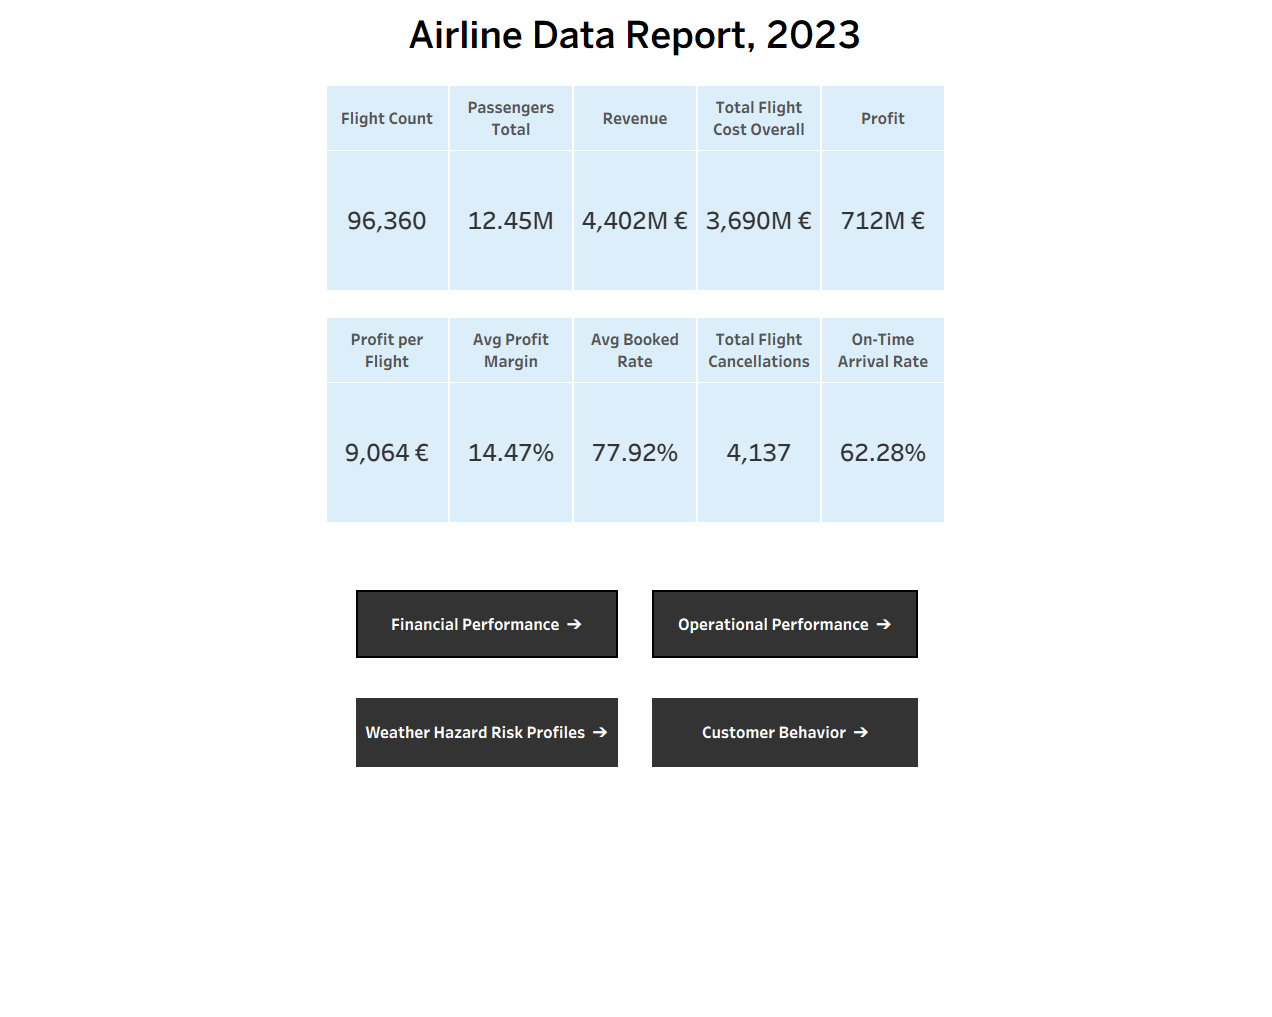

The page's visual inventory and layout, read from the dashboard file:
{"tool":"tableau","page":{"name":"(1) KPIs","canvas":[650,860],"ordinal":0},"visuals":[{"type":"worksheet","title":"1.1 KPIs","mark":"Automatic","box":[8,8,634,302]},{"type":"worksheet","title":"1.2 KPIs","mark":"Automatic","box":[8,310,634,542]}]}

Visuals, with their boxes on the page's 650x860 design canvas (x1, y1, x2, y2). These are canvas units, not pixel positions in the 1272x1017 screenshot, which may show the page scaled, cropped or inside an application window:
"1.1 KPIs" worksheet: {"left": 8, "top": 8, "right": 642, "bottom": 310}
"1.2 KPIs" worksheet: {"left": 8, "top": 310, "right": 642, "bottom": 852}
